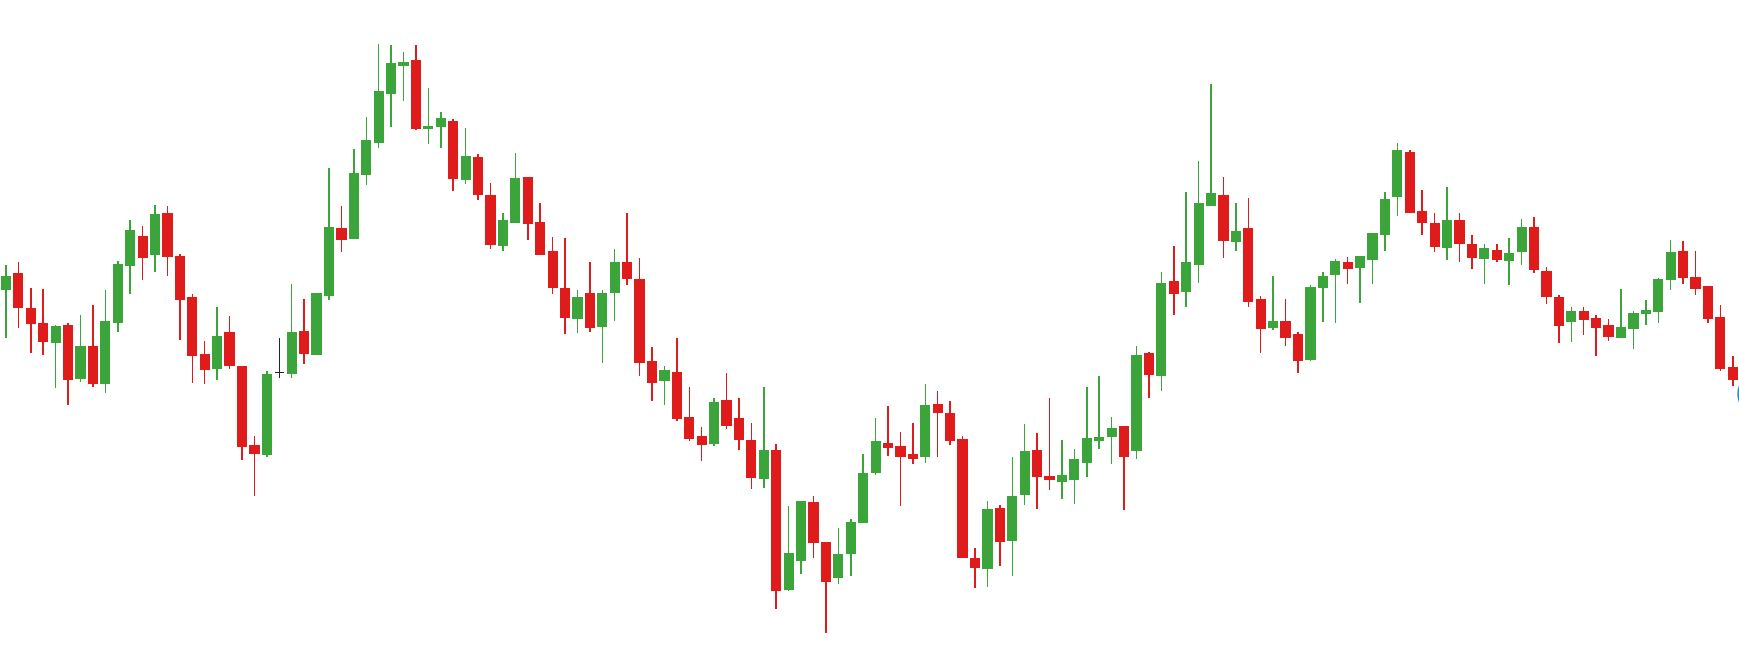buy: (840, 462, 993, 592), (1067, 411, 1130, 514)
sell: (557, 209, 633, 317)
